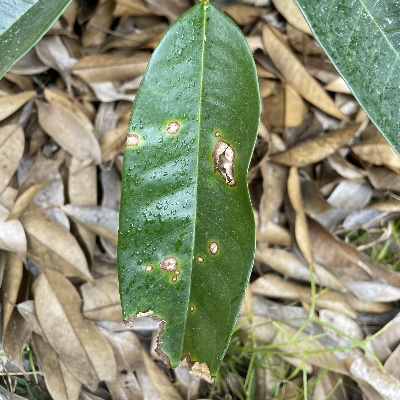Leaf_Phomopsis: (115, 1, 262, 380)
